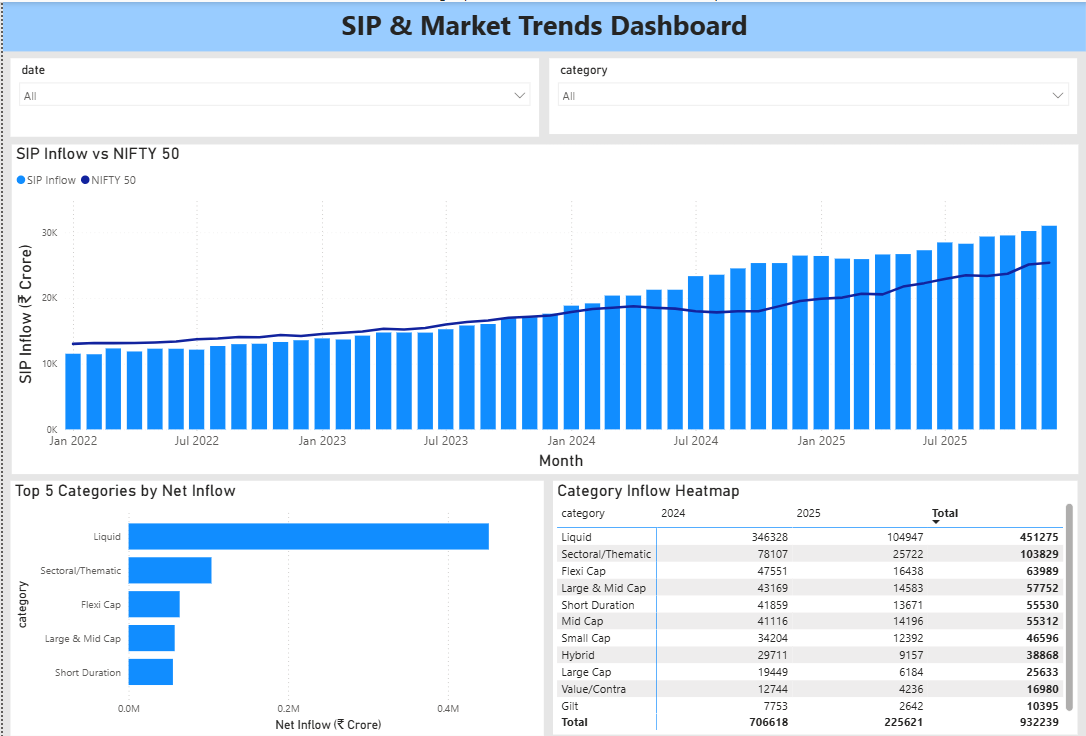

This screenshot's page, from the dashboard's own definition file:
{"tool":"powerbi","page":{"name":"Page 4","canvas":[1280,870],"ordinal":3},"visuals":[{"type":"textbox","box":[0,0,1280.3,58.7],"z":0},{"type":"slicer","fields":{"Values":["02_nav_history_clean.date"]},"box":[9.5,66.8,624.6,93],"z":1000},{"type":"slicer","fields":{"Values":["01_fund_master_clean.category"]},"box":[645,66,624,89.4],"z":2000},{"type":"lineClusteredColumnComboChart","title":"SIP Inflow vs NIFTY 50","fields":{"Y":["Sum(04_monthly_sip_inflows_clean.sip_inflow_crore)"],"Y2":["Sum(10_benchmark_monthly.Monthly_Close)"],"Category":["04_monthly_sip_inflows_clean.month"]},"box":[10,168,1260.6,389.3],"z":3000},{"type":"pivotTable","title":"Category Inflow Heatmap","fields":{"Values":["Sum(05_category_inflows_clean.net_inflow_crore)"],"Columns":["05_category_inflows_clean.month.Variation.Date Hierarchy.Year","05_category_inflows_clean.month.Variation.Date Hierarchy.Quarter","05_category_inflows_clean.month.Variation.Date Hierarchy.Month","05_category_inflows_clean.month.Variation.Date Hierarchy.Day"],"Rows":["05_category_inflows_clean.category"]},"box":[650.8,566.2,619.9,300.4],"z":4000},{"type":"clusteredBarChart","title":"Top 5 Categories by Net Inflow","fields":{"Category":["05_category_inflows_clean.category"],"Y":["Sum(05_category_inflows_clean.net_inflow_crore)"]},"box":[9.5,566.2,630.6,301.6],"z":5000}]}

Visuals, with their boxes in screenshot pixels (x1, y1, x2, y2), scaled from the page's 1280x870 canvas onto the 1086x736 screenshot:
textbox: x1=0, y1=0, x2=1085, y2=50
slicer - 02_nav_history_clean.date: x1=8, y1=57, x2=538, y2=135
slicer - 01_fund_master_clean.category: x1=547, y1=56, x2=1077, y2=131
"SIP Inflow vs NIFTY 50" lineClusteredColumnComboChart: x1=8, y1=142, x2=1078, y2=471
"Category Inflow Heatmap" pivotTable: x1=552, y1=479, x2=1078, y2=733
"Top 5 Categories by Net Inflow" clusteredBarChart: x1=8, y1=479, x2=543, y2=734
